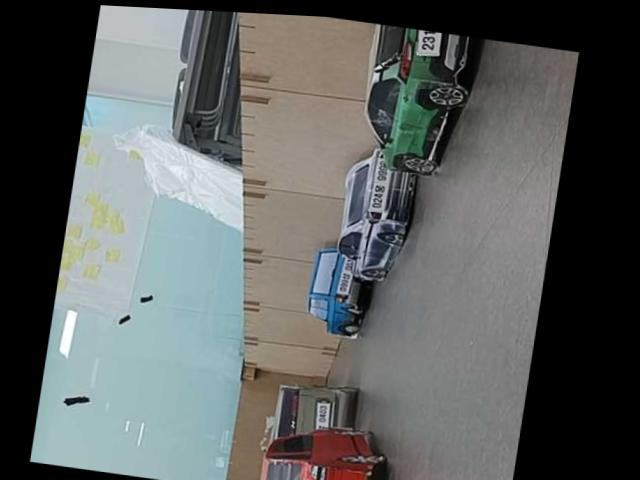car: (347, 22, 481, 180), (329, 140, 421, 280), (251, 411, 400, 480), (301, 240, 375, 341), (266, 372, 359, 452)
id: (365, 154, 396, 214), (331, 251, 360, 297), (410, 29, 442, 59), (310, 396, 334, 432)
